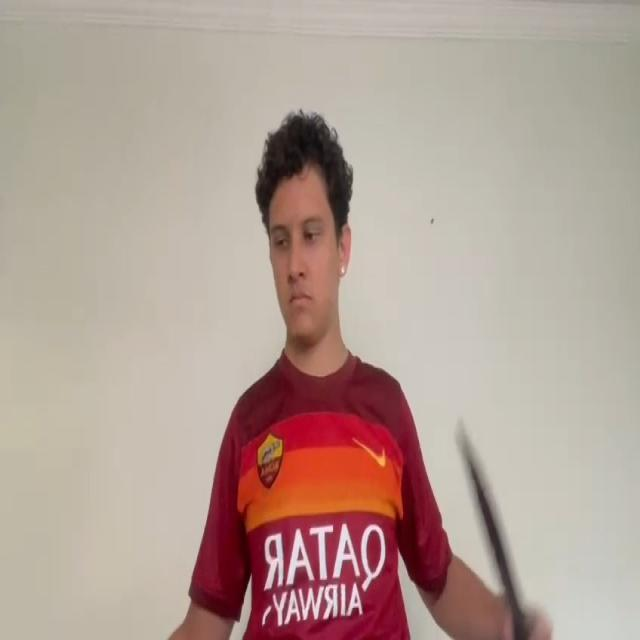knife: (459, 425, 524, 627)
